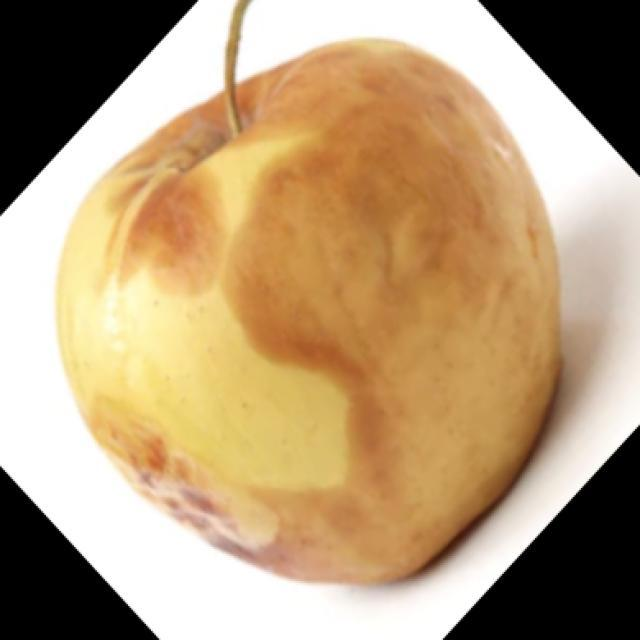Rotten: (81, 56, 556, 566)
